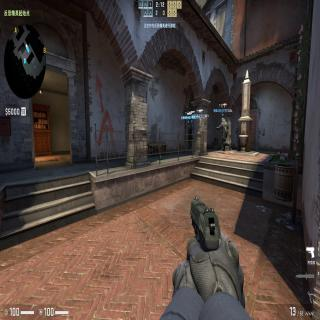CT-Body: (216, 117, 231, 152)
CT-Head: (220, 118, 224, 122)
